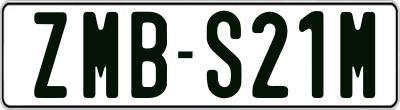1: (298, 9, 324, 100)
2: (251, 9, 292, 99)
B: (131, 9, 168, 96)
M: (337, 10, 378, 96), (81, 11, 118, 100)
S: (206, 10, 240, 97)
Z: (33, 11, 67, 98)
